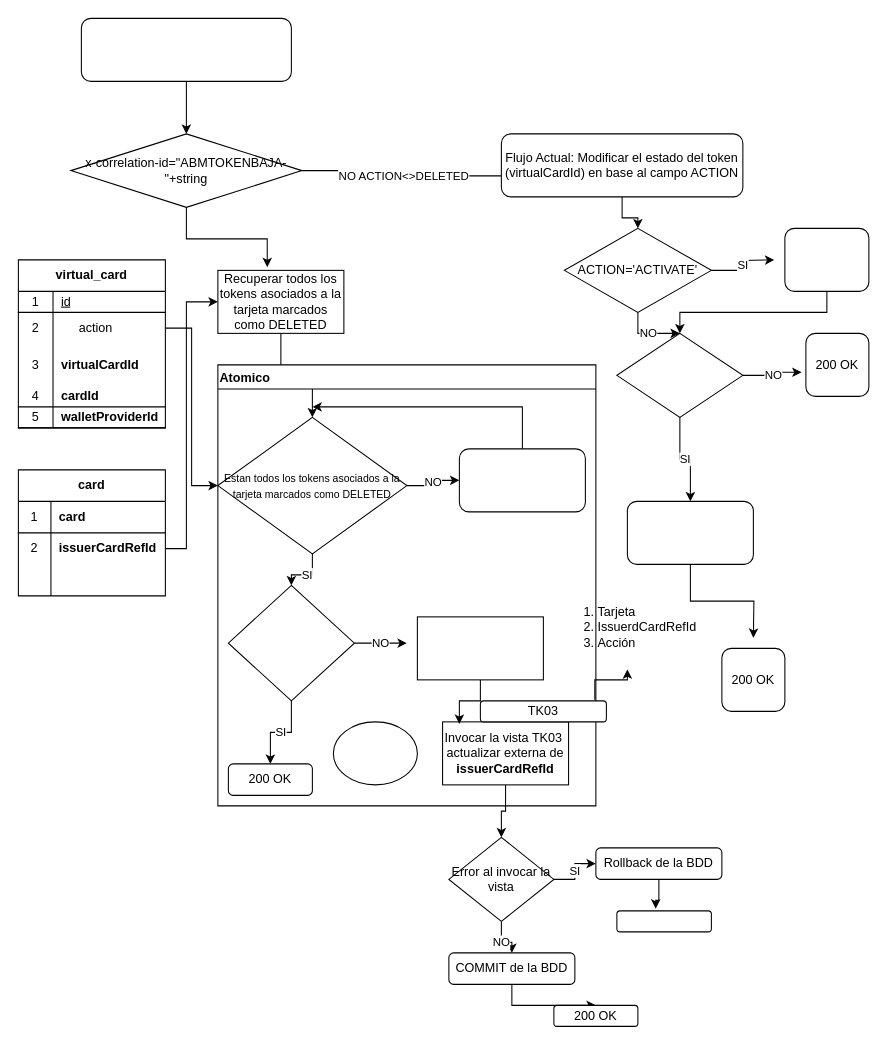
Some shapes in this 887 by 1045 pixel diagram are drawn without their labels. The shapes that lost their labels are listed below. From the top down, each one's centre as x and y in pixels, then its label:
(185,49): /notifyVirtualCardChange
(826,259): NOTIFICAR al BANCO
(679,374): x-correlation-id = "TGW"+ string
(521,480): Marcar tokens como DELETED
(689,532): Notification WebAPI Invocar endPoint /notifyVirtualCardChange del WebAPI -mismo
(290,642): Esta el issuerCardRefId marcado como DELETED
(479,648): Marcar issuerCardRefId como DELETED
(374,753): Copy Vista
(663,921): 500 ERROR
